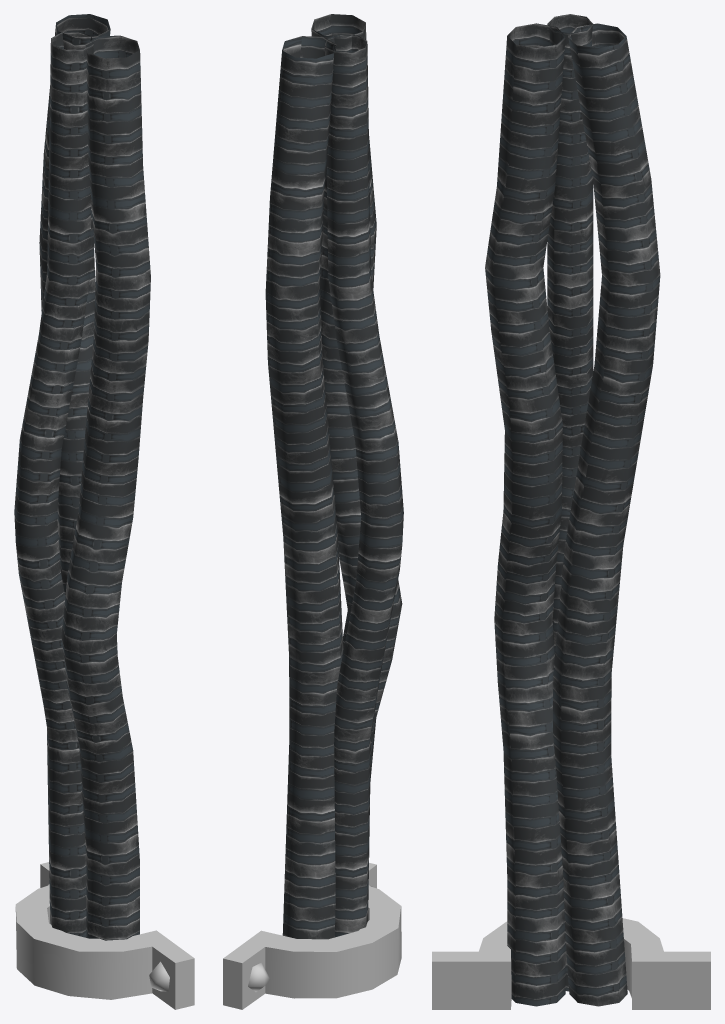
The model's file is SM_wall_wire_01.fbx.
The picture shows the model from 3 angles, left to right: view 1: azimuth 30°, elevation 25°; view 2: azimuth 150°, elevation 25°; view 3: azimuth 270°, elevation 25°; orthographic projection. The views are drawn at different scales.
Visible parts, largest first — view 1: SM_wall_wire_01_LOD0; view 2: SM_wall_wire_01_LOD0; view 3: SM_wall_wire_01_LOD0.
Part boxes in pixels (x1=…): SM_wall_wire_01_LOD0: x1=14, y1=14, x2=194, y2=1009; SM_wall_wire_01_LOD0: x1=223, y1=14, x2=403, y2=1009; SM_wall_wire_01_LOD0: x1=432, y1=14, x2=710, y2=1009.
Size of the model in its own units: 12.6 by 26.36 by 100.
